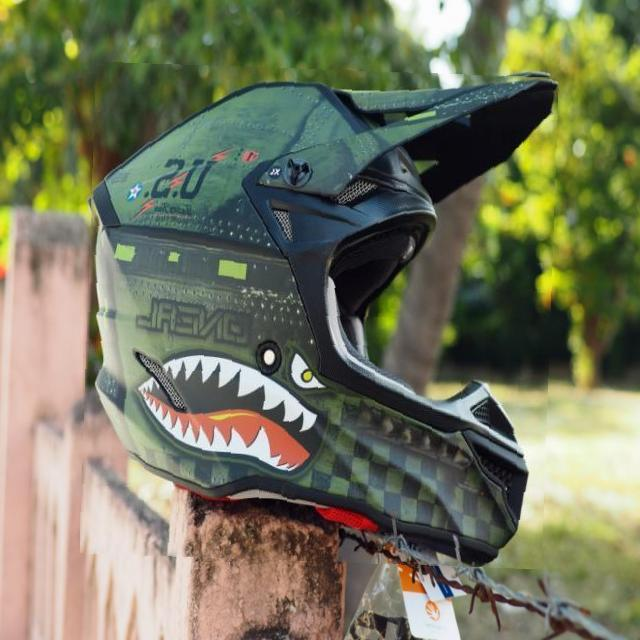helmet: (84, 66, 555, 566)
